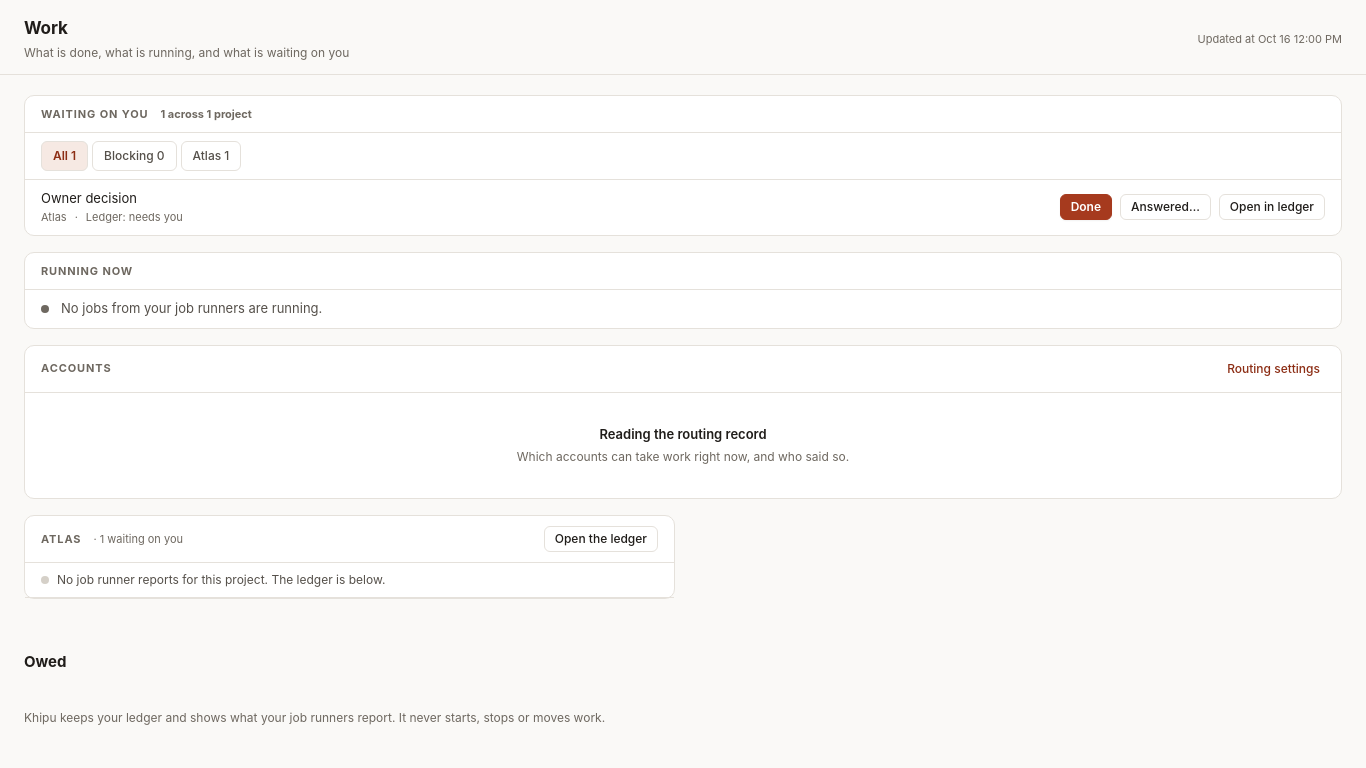
it: Answered still defaults to the done word when the project defines one
The width and height of the screenshot is (1366, 768).
Click the button "Answered…" at (1166, 207), box [1120, 194, 1211, 220]
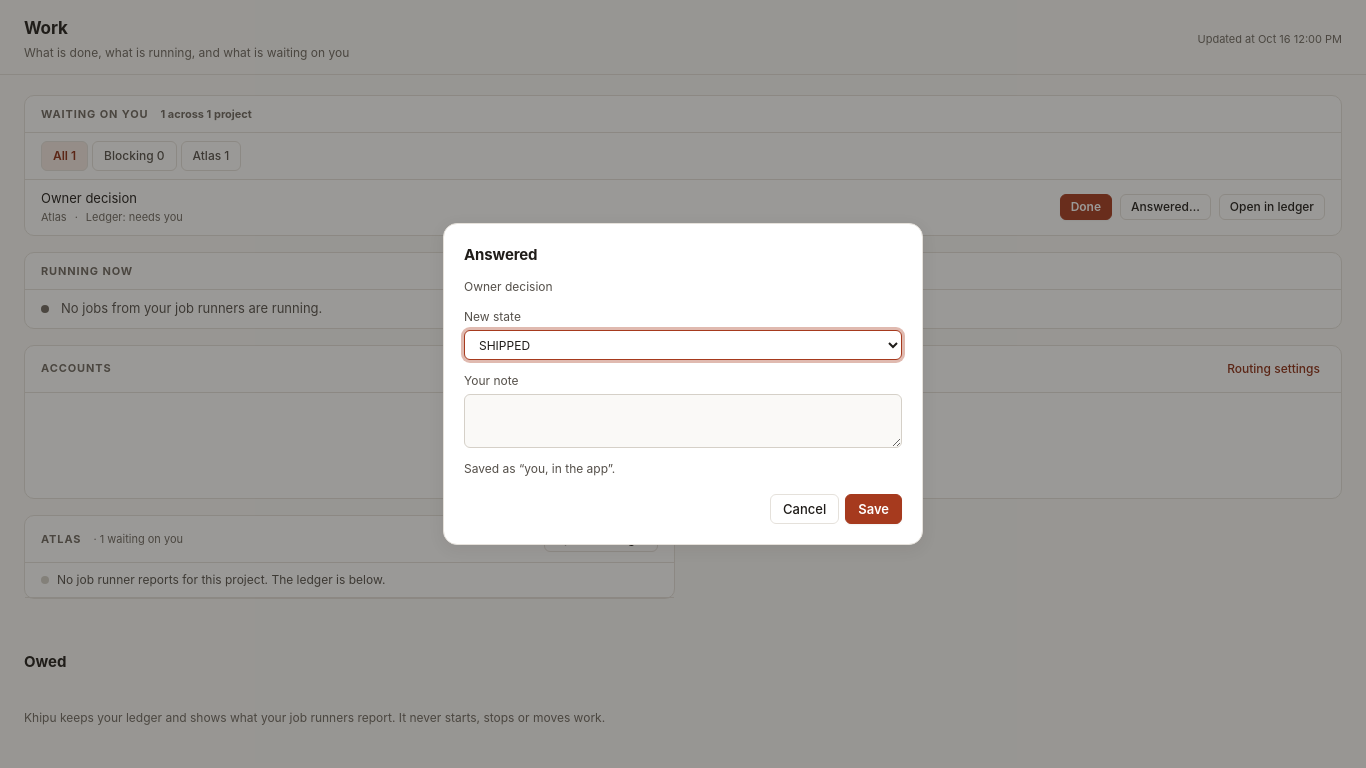
Expected: the dropdown labelled "New state" shows "SHIPPED", [464, 330, 902, 360]
